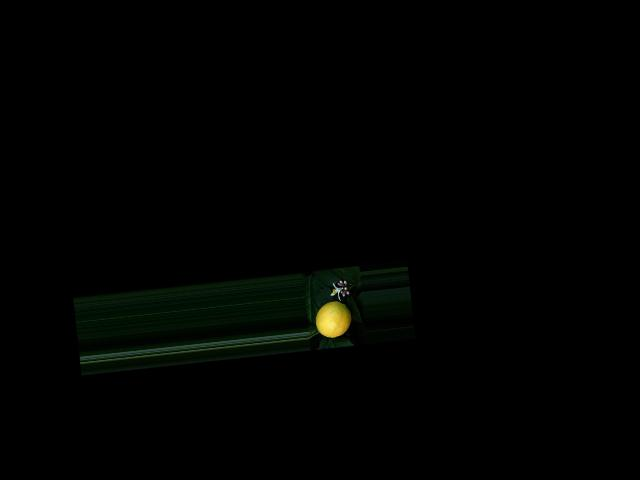lemon: (312, 299, 353, 342)
